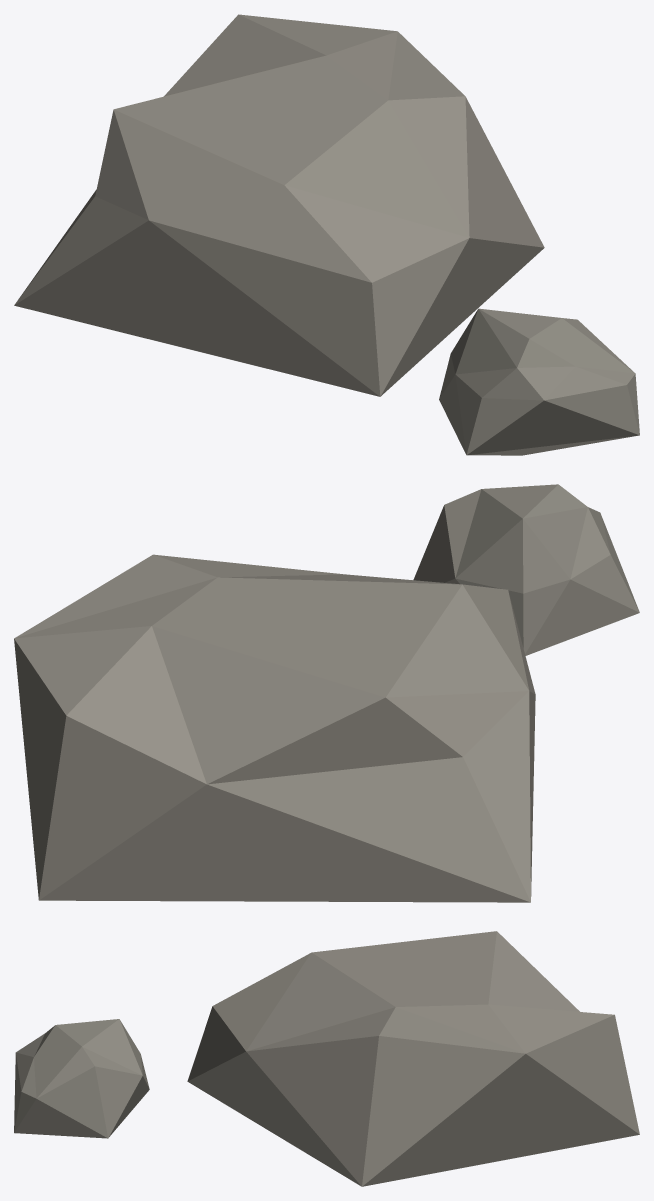
File: rock2.FBX
3 renders of one model, top to bottom at view 1: azimuth 30°, elevation 25°; view 2: azimuth 150°, elevation 25°; view 3: azimuth 270°, elevation 25°, orthographic. The views are drawn at different scales.
Visible parts, largest first — view 1: Object019; view 2: Object019; view 3: Object019.
Part boxes in pixels (left/top/right/bottom): Object019: left=14, top=14, right=639, bottom=455; Object019: left=14, top=484, right=639, bottom=902; Object019: left=14, top=931, right=639, bottom=1186.
Bounding box in the file's own units: 6.1 × 3.01 × 9.26.
1 material, 1 textured.
